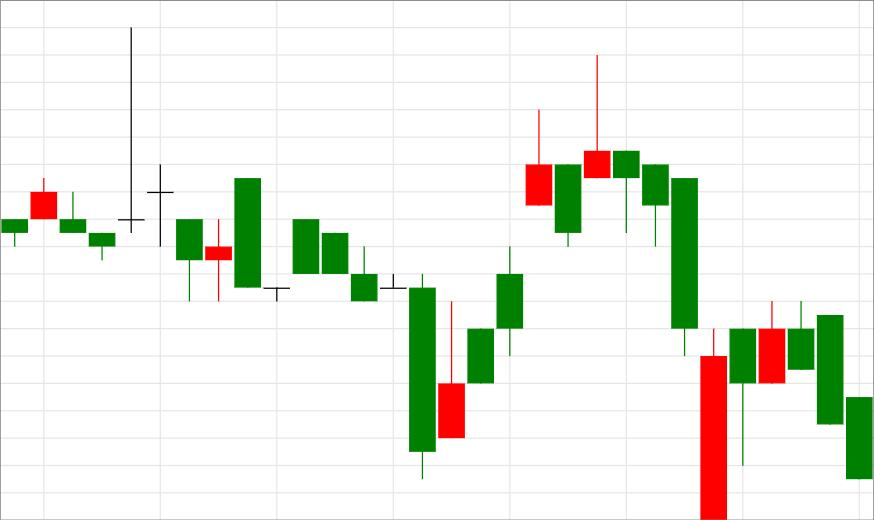shooting_star_fall: (438, 55, 611, 438)
